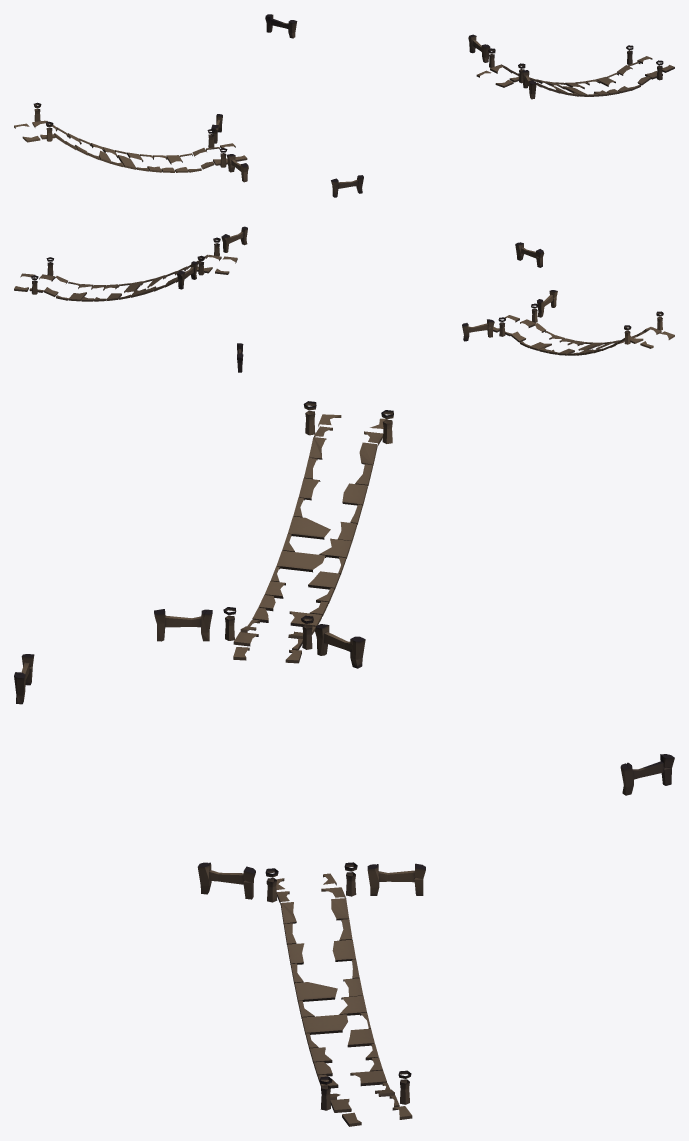
File: Ground_Wood_01.FBX
3 views of the same model, one above another, from view 1: azimuth 30°, elevation 25°; view 2: azimuth 150°, elevation 25°; view 3: azimuth 270°, elevation 25° (orthographic). The views are drawn at different scales.
Visible parts, largest first — view 1: Ground_Wood_01; view 2: Ground_Wood_01; view 3: Ground_Wood_01.
Part boxes in pixels (x1,y1,x2,y2): Ground_Wood_01: (14,14,674,197); Ground_Wood_01: (14,226,674,372); Ground_Wood_01: (14,401,674,1126).
Bounding box in the file's own units: 39.43 × 6.48 × 19.98.
